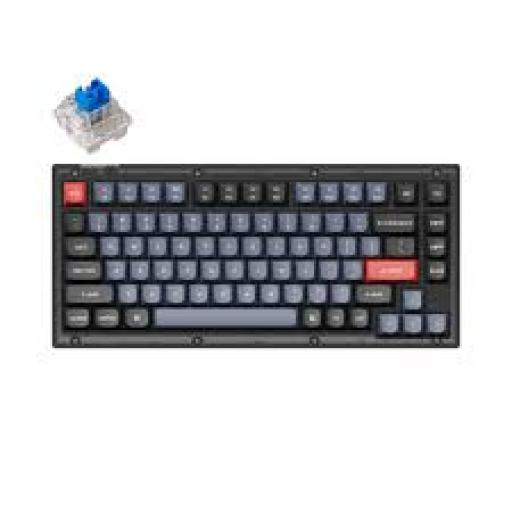KEYBOARD-2: (57, 164, 457, 346)
